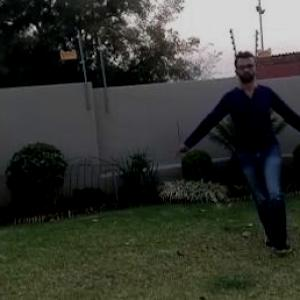land: (189, 59, 299, 241)
